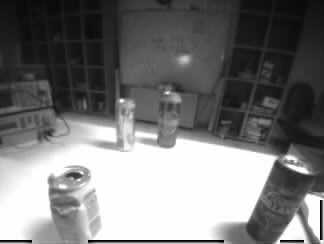Tin can: (248, 154, 317, 239), (49, 164, 102, 240), (157, 92, 180, 146), (115, 98, 136, 151)
